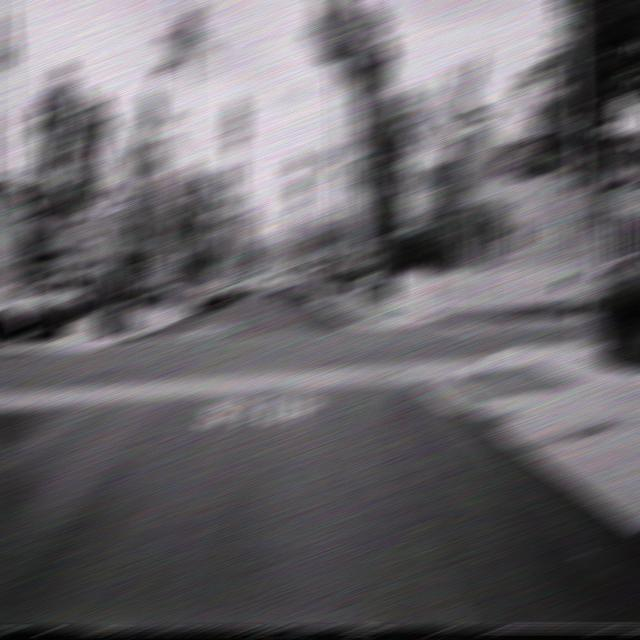speedLimit25: (347, 211, 367, 238)
stop: (455, 125, 498, 190)
